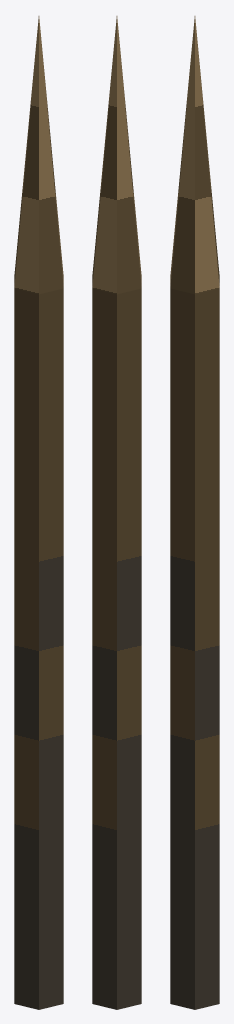
The model's file is Post.obj.
3 views of the same model, side by side, from view 1: azimuth 30°, elevation 25°; view 2: azimuth 150°, elevation 25°; view 3: azimuth 330°, elevation 25° (orthographic).
Visible parts, largest first — view 1: Post; view 2: Post; view 3: Post.
Boxes of the visible parts, <box> form: Post: <box>14,16,63,1009</box>; Post: <box>92,16,141,1009</box>; Post: <box>170,16,219,1009</box>.
Size of the model in its own units: 0.0361 by 0.6875 by 0.0312.
Materials: 1 (1 with a texture image).
